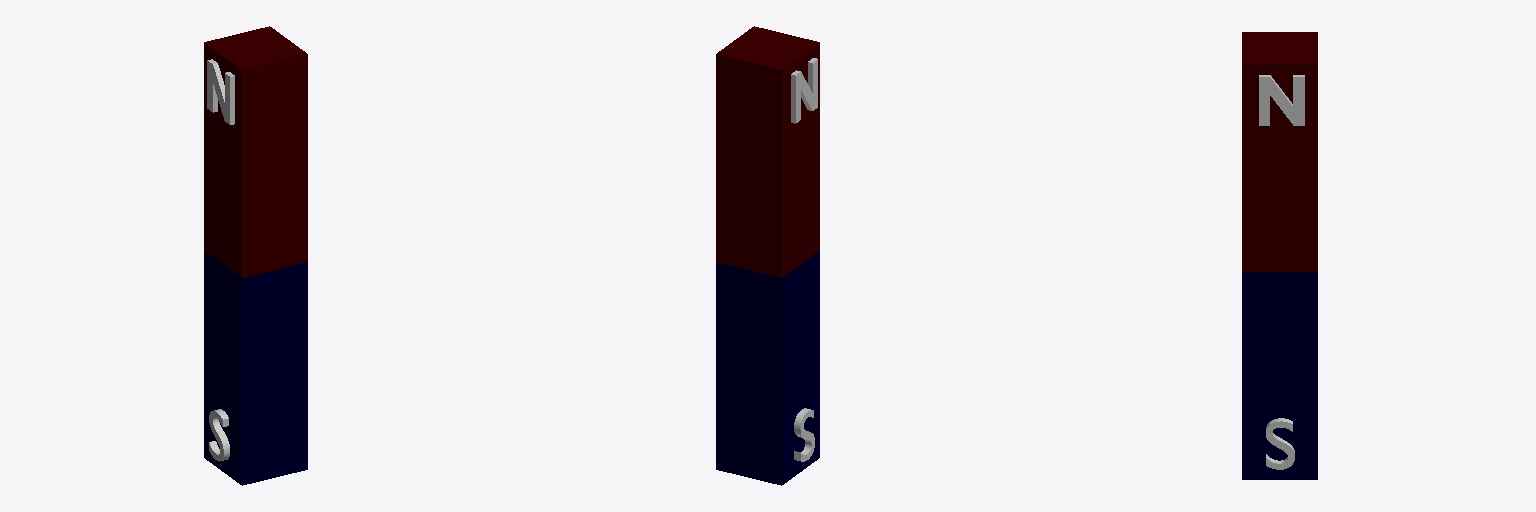
Rendered from Magnet.obj.
The picture shows the model from 3 angles: view 1: azimuth 30°, elevation 25°; view 2: azimuth 150°, elevation 25°; view 3: azimuth 270°, elevation 25°; orthographic projection.
Parts seen in each view (by area): view 1: North, Rectangle, N2, S2; view 2: North, Rectangle, N2, S2; view 3: North, Rectangle, N1, S1.
Part boxes in pixels (bbox=[...]): North: bbox=[204, 26, 307, 277]; Rectangle: bbox=[204, 251, 307, 485]; N2: bbox=[207, 59, 234, 124]; S2: bbox=[209, 409, 229, 461]; North: bbox=[716, 26, 819, 277]; Rectangle: bbox=[716, 251, 819, 485]; N2: bbox=[791, 58, 817, 123]; S2: bbox=[794, 408, 814, 461]; North: bbox=[1242, 32, 1317, 271]; Rectangle: bbox=[1242, 272, 1317, 479]; N1: bbox=[1259, 75, 1304, 125]; S1: bbox=[1266, 418, 1294, 469].
Bounding box in the file's own units: 2.4 × 12 × 2.